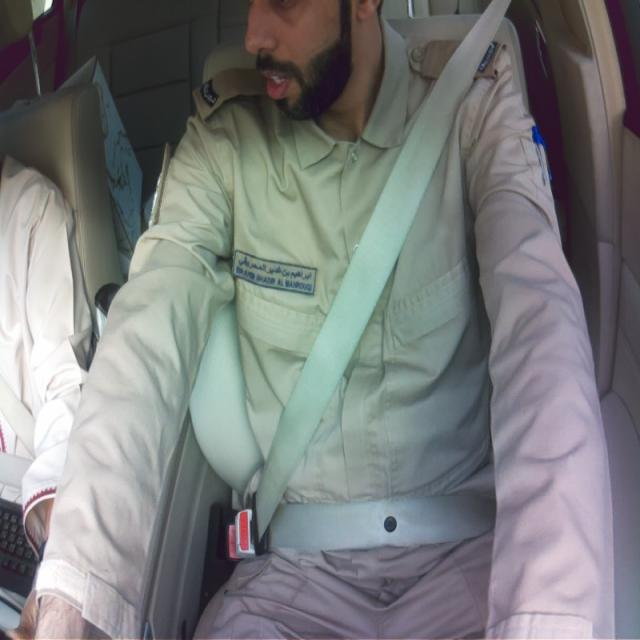seatbelt: (255, 0, 509, 551)
